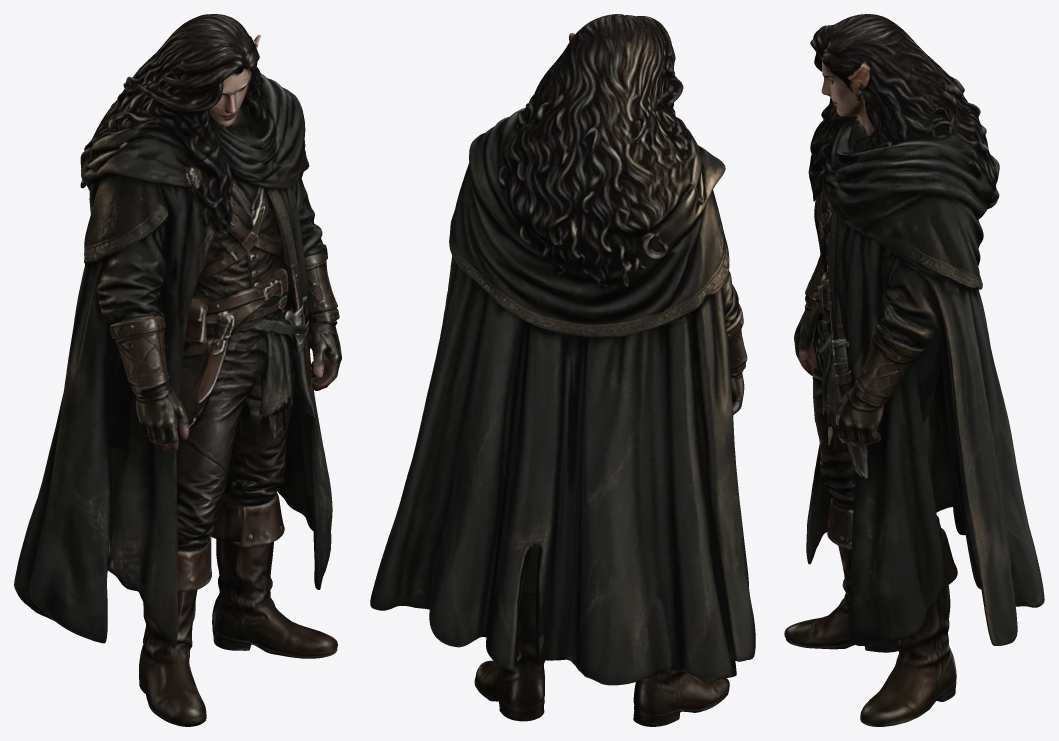
Rendered from aiprintgen_Dark Elf Rogue with Dagger-preview.glb.
3 views of the same model, side by side, from view 1: azimuth 30°, elevation 25°; view 2: azimuth 150°, elevation 25°; view 3: azimuth 270°, elevation 25° (orthographic). The views are drawn at different scales.
Parts seen in each view (by area): view 1: aiprintgen__a.obj; view 2: aiprintgen__a.obj; view 3: aiprintgen__a.obj.
Boxes of the visible parts, box(x1,y1,x2,y2) form: aiprintgen__a.obj: box(14, 14, 341, 726); aiprintgen__a.obj: box(370, 14, 755, 726); aiprintgen__a.obj: box(784, 14, 1044, 726).
Size of the model in its own units: 0.9432 by 1.83 by 0.6674.
1 material, 1 textured.
